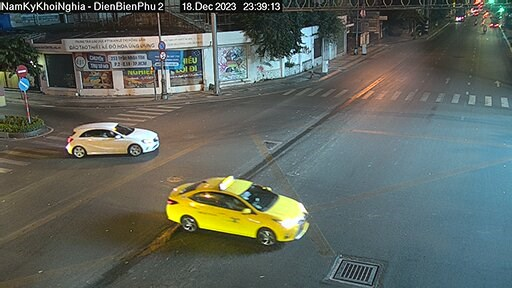car: (150, 157, 316, 260), (50, 109, 158, 171)
